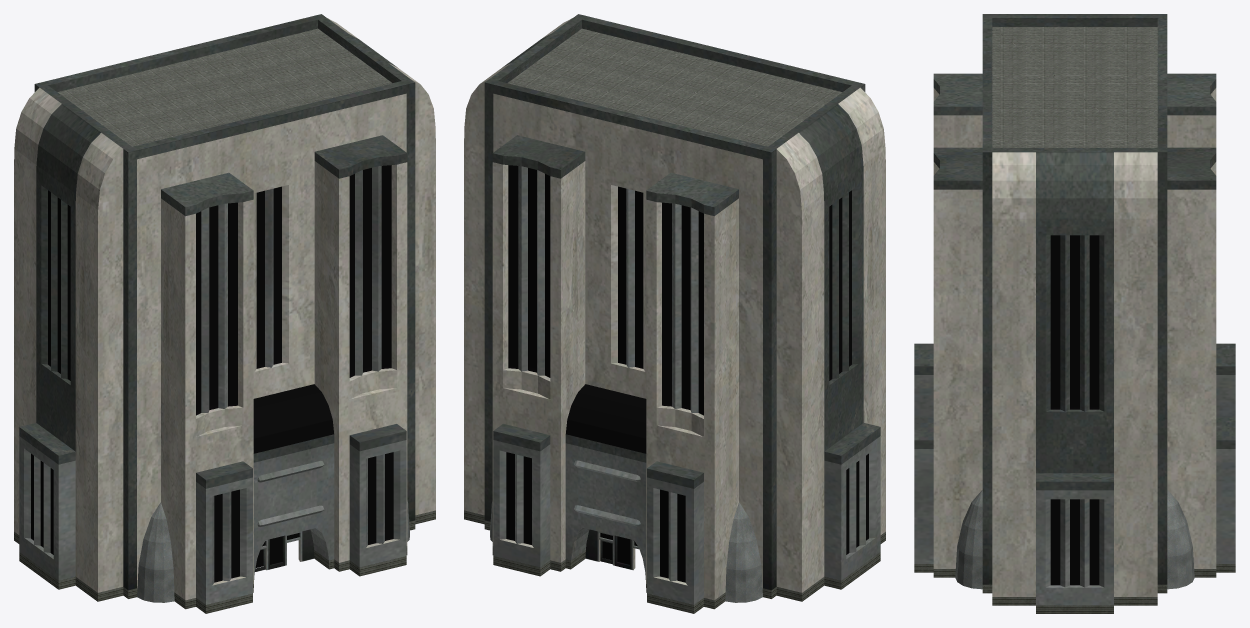
The model's file is thm_corl_imprv_building_s05_r0_mesh_l1.fbx.
3 views of the same model, side by side, from view 1: azimuth 30°, elevation 25°; view 2: azimuth 150°, elevation 25°; view 3: azimuth 270°, elevation 25° (orthographic).
Parts seen in each view (by area): view 1: mesh_node; view 2: mesh_node; view 3: mesh_node.
Part boxes in pixels (<box>): mesh_node: <box>14,14,435,613</box>; mesh_node: <box>464,14,885,613</box>; mesh_node: <box>914,14,1235,613</box>.
Bounding box in the file's own units: 43.6 × 50 × 33.
